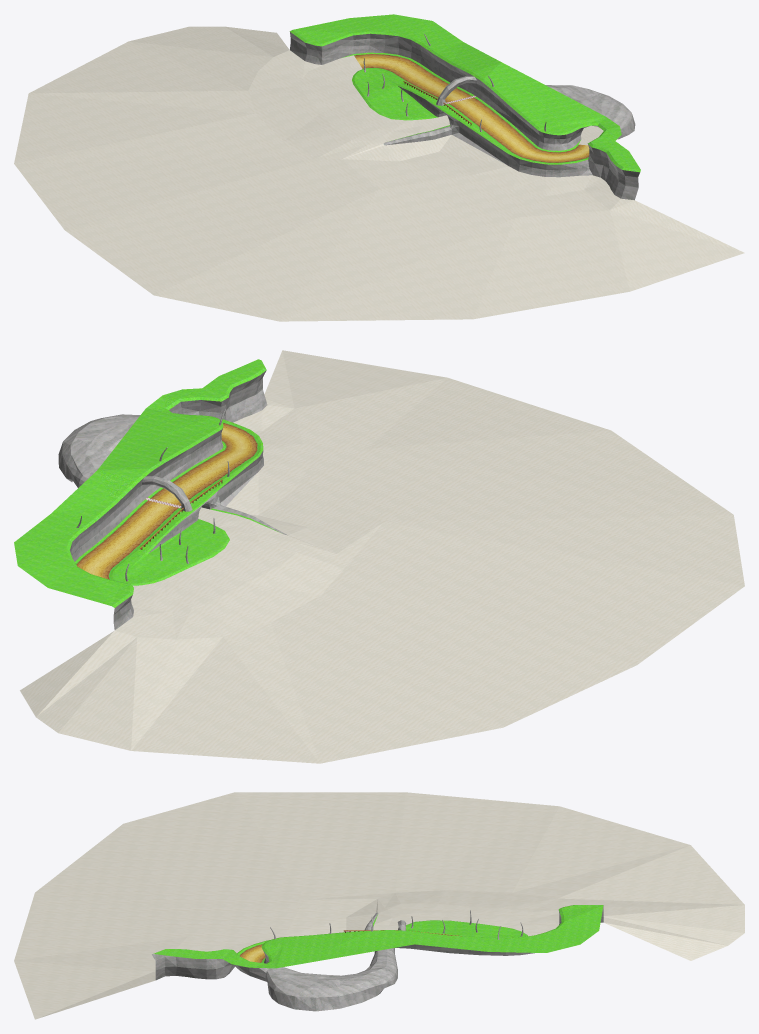
3 views of the same model, one above another, from view 1: azimuth 30°, elevation 25°; view 2: azimuth 150°, elevation 25°; view 3: azimuth 270°, elevation 25° (orthographic). The views are drawn at different scales.
Visible parts, largest first — view 1: fadeout, sand.002, grass.016, wall.006, road.015; view 2: fadeout, sand.002, grass.016, wall.006, road.015; view 3: fadeout, sand.002, grass.016, wall.006.
Boxes of the visible parts, x1,y1,x2,y2 form: fadeout: (14, 26, 744, 321); sand.002: (225, 26, 743, 252); grass.016: (290, 14, 640, 172); wall.006: (290, 32, 639, 200); road.015: (354, 54, 589, 162); fadeout: (36, 350, 744, 763); sand.002: (20, 350, 383, 716); grass.016: (14, 359, 277, 607); wall.006: (58, 370, 287, 629); road.015: (76, 422, 258, 579); fadeout: (14, 792, 744, 1019); sand.002: (38, 890, 727, 1018); grass.016: (153, 905, 603, 968); wall.006: (151, 905, 603, 1011).
Size of the model in its own units: 80878 by 10197 by 103402.
8 materials, 8 textured.
